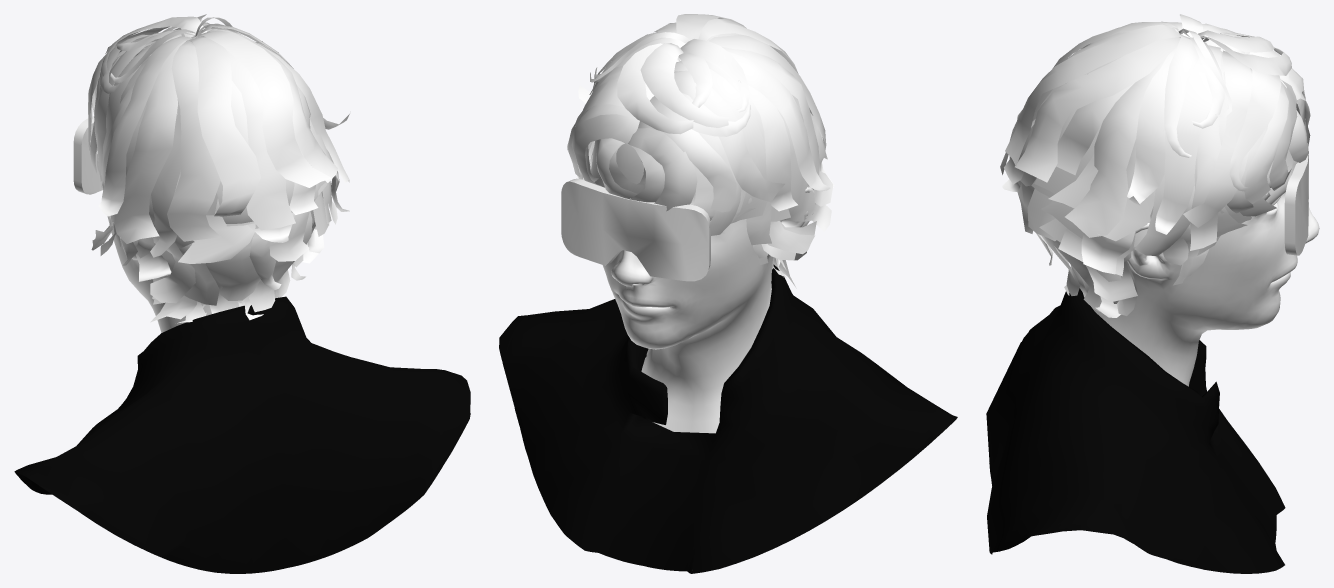
The model's file is BoyManMask.fbx.
3 renders of one model, left to right at view 1: azimuth 30°, elevation 25°; view 2: azimuth 150°, elevation 25°; view 3: azimuth 270°, elevation 25°, orthographic. The views are drawn at different scales.
Parts seen in each view (by area): view 1: Cube; view 2: Cube; view 3: Cube.
Boxes of the visible parts, <box> form: Cube: <box>14,14,470,573</box>; Cube: <box>499,14,957,573</box>; Cube: <box>986,14,1319,573</box>.
Size of the model in its own units: 41.14 by 44.26 by 25.73.
1 material, 1 textured.
